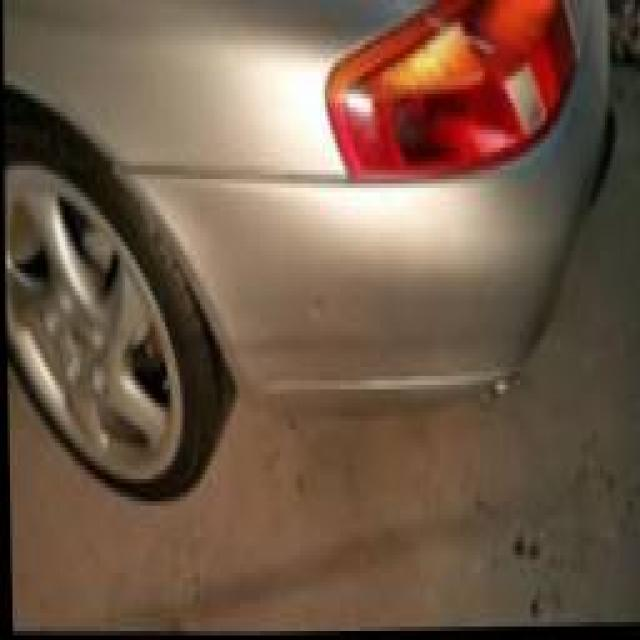Light: (417, 5, 507, 71)
